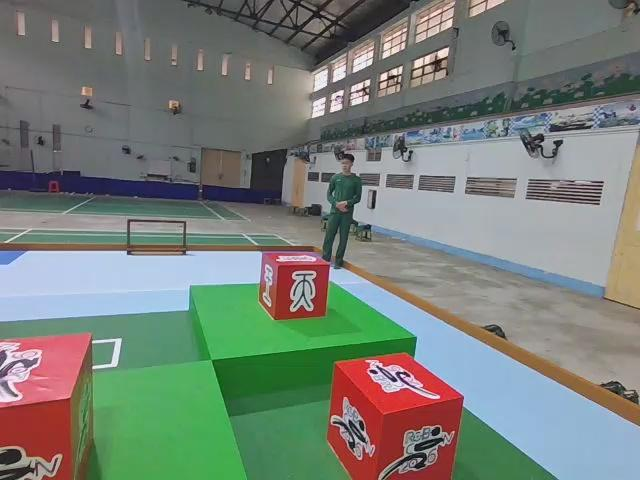R1: (326, 349, 466, 480), (0, 331, 96, 480)
R2 Fake: (258, 249, 332, 322)
